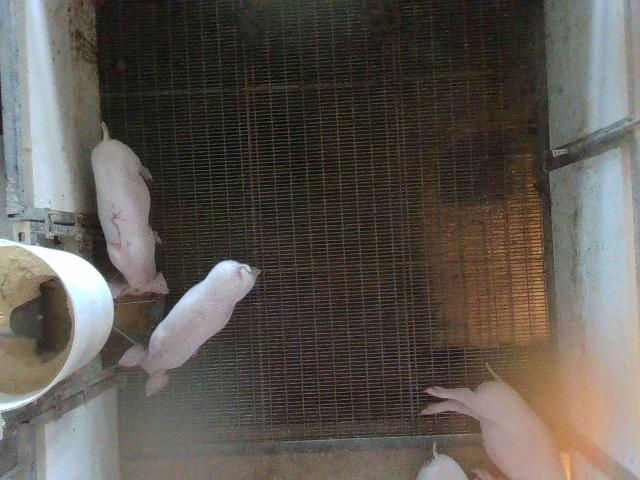pig-5: (91, 122, 169, 298)
